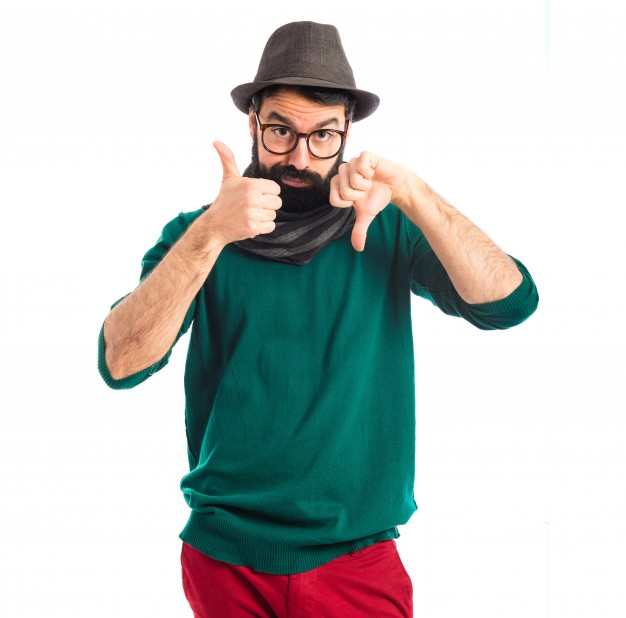thumbsup: (213, 140, 282, 235)
